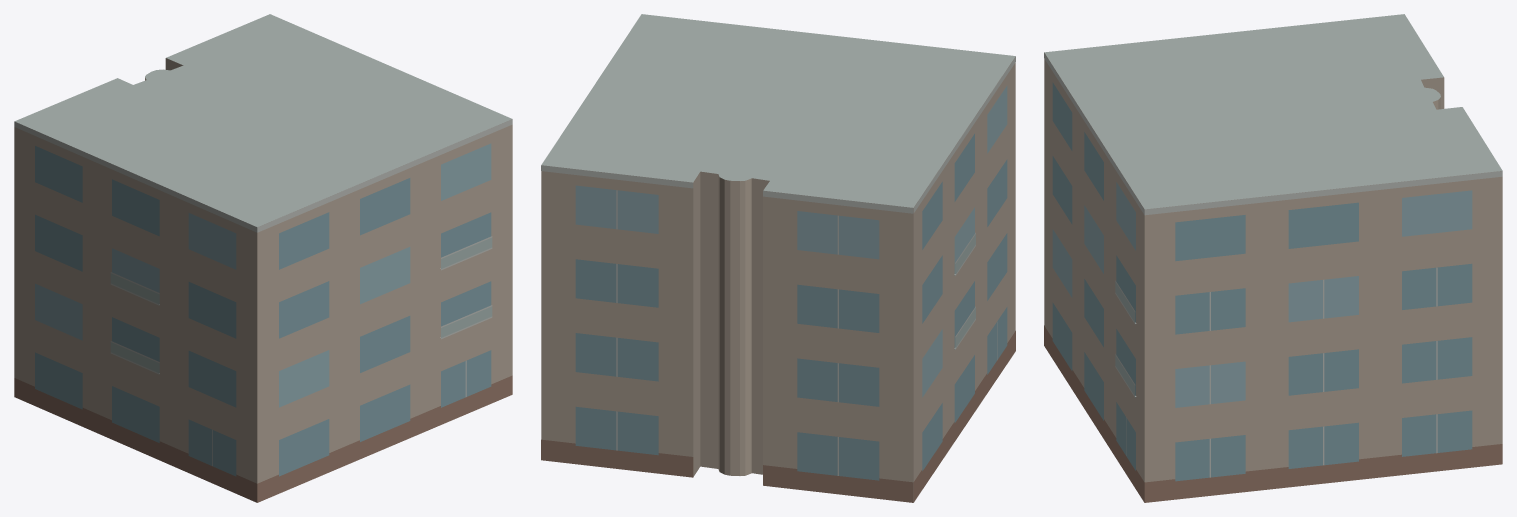
File: survey-upis-32812533.glb
The picture shows the model from 3 angles, left to right: view 1: azimuth 30°, elevation 25°; view 2: azimuth 150°, elevation 25°; view 3: azimuth 270°, elevation 25°; orthographic projection. The views are drawn at different scales.
Parts seen in each view (by area): view 1: survey-upis-32812533.tmp; view 2: survey-upis-32812533.tmp; view 3: survey-upis-32812533.tmp.
Part boxes in pixels (box(x1,y1,x2,y2)): survey-upis-32812533.tmp: box(14, 14, 512, 502); survey-upis-32812533.tmp: box(541, 14, 1015, 502); survey-upis-32812533.tmp: box(1044, 14, 1502, 502).
Size of the model in its own units: 17.43 by 12.2 by 17.29.
